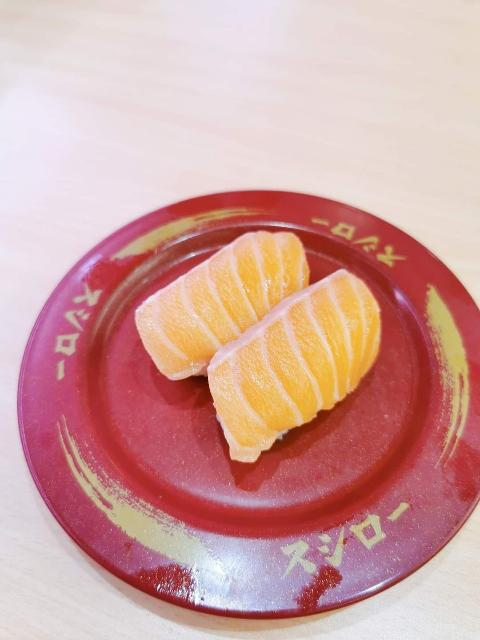janred: (43, 170, 470, 618)
